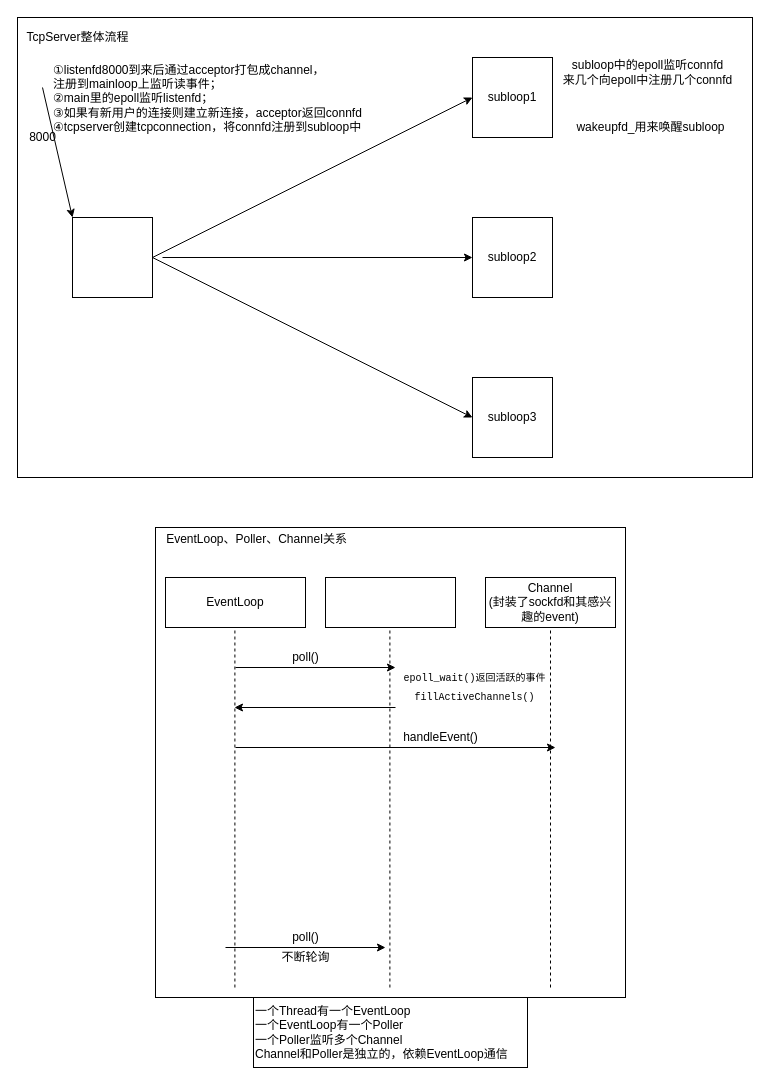
Some shapes in this 770 by 1085 pixel diagram are drawn without their labels. The centre of each missing label's shape, as x and y in pixels:
mainloop: point (112, 257)
Poller/Epollpoller（epoll）: point (390, 602)
